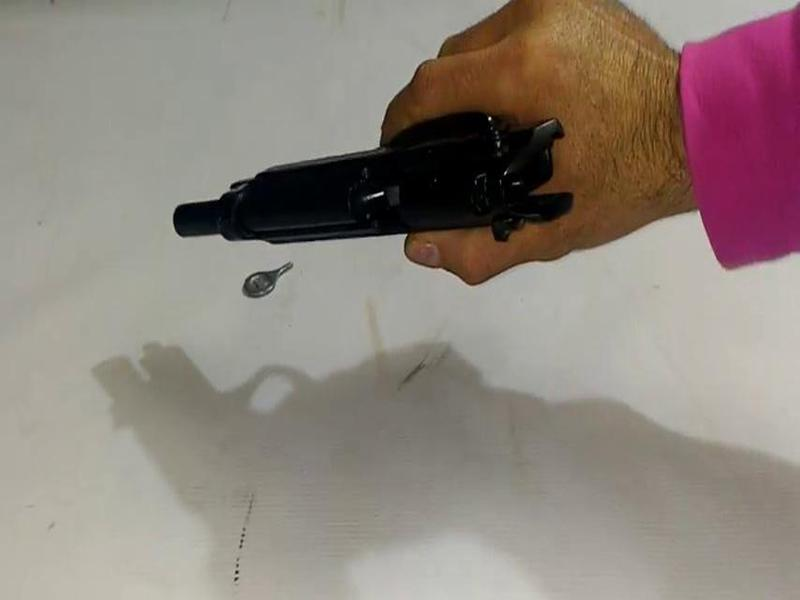Pistola: (124, 73, 629, 287)
